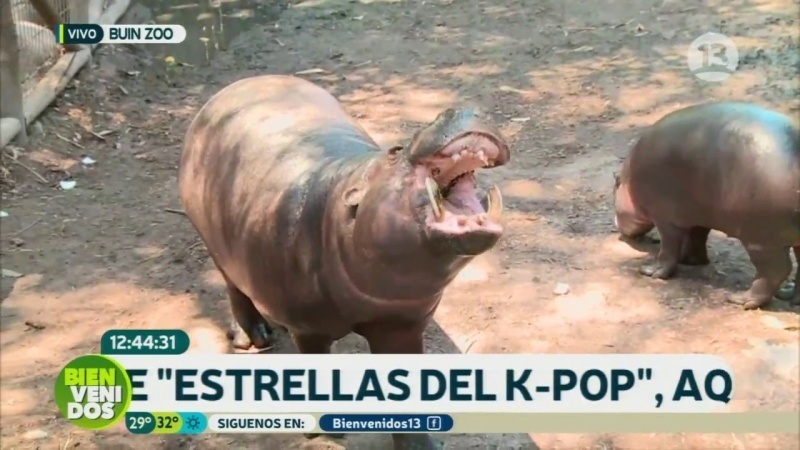hipopotamo: (154, 67, 523, 360), (590, 88, 799, 316)
